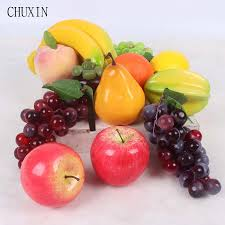elma: (20, 144, 88, 208), (94, 126, 150, 185)
